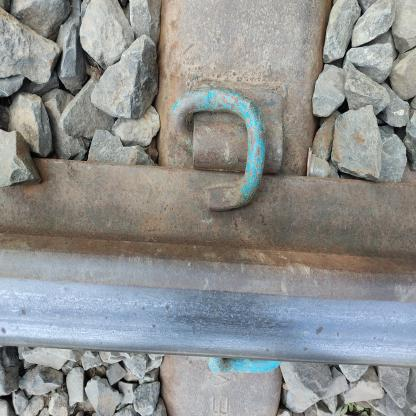Non Defective 1: (143, 57, 322, 262)
